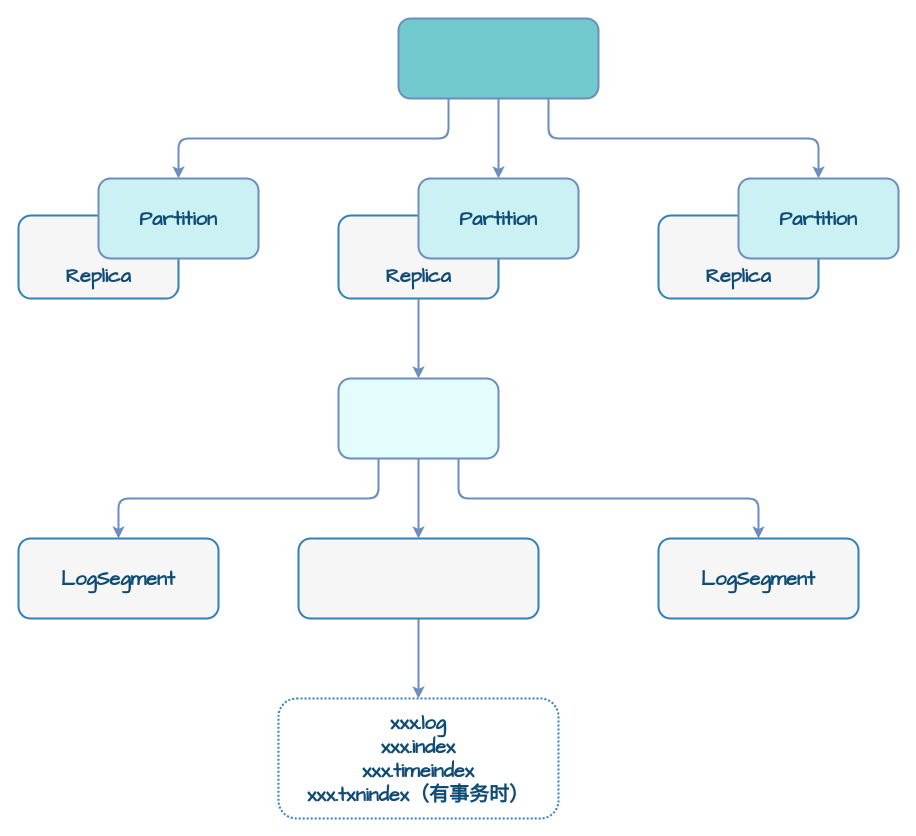
Some shapes in this 916 by 836 pixel diagram are drawn without their labels. Each missing label, with the box of its shape:
Kafka Topic: (397, 17, 599, 99)
Log: (337, 377, 499, 459)
LogSegment （超出7天或1GB删除）: (297, 537, 539, 619)
